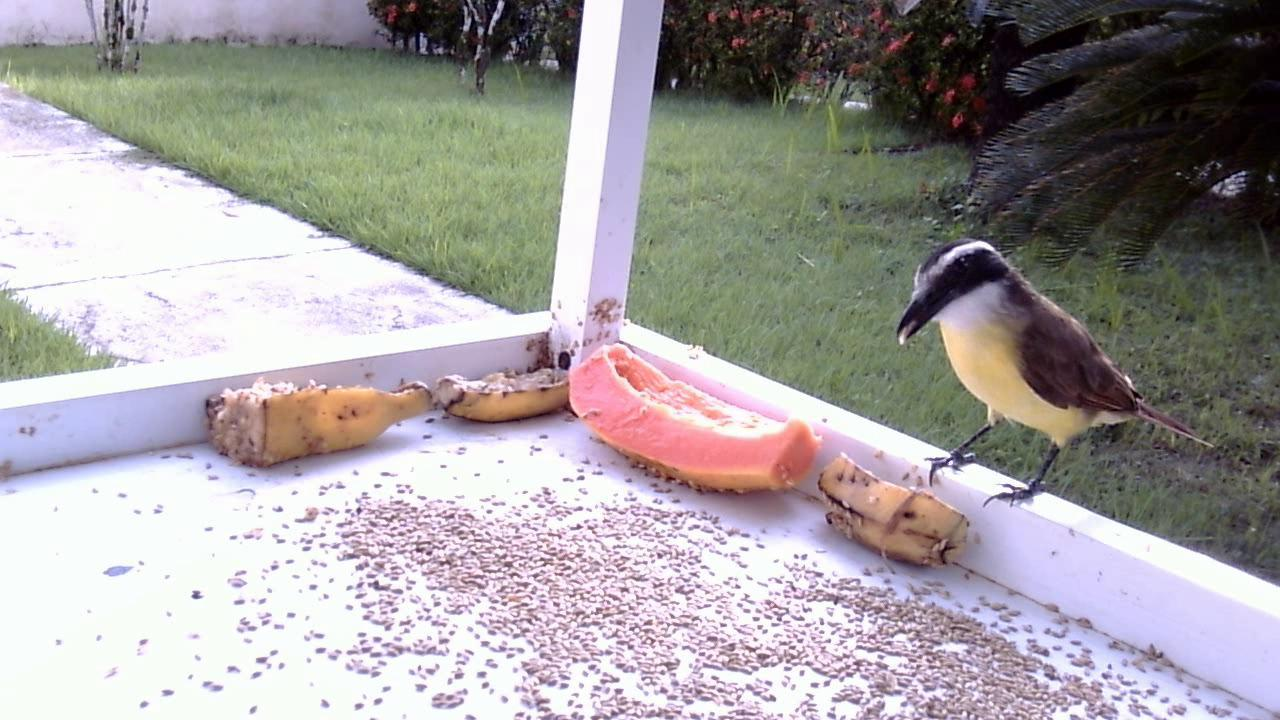bem_te_vi: (882, 222, 1215, 537)
